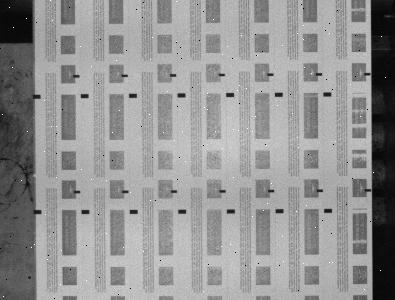backgroundclutter: (28, 276, 31, 279)
qblock: (324, 208, 333, 213), (130, 209, 138, 214), (33, 94, 41, 99), (129, 93, 137, 98), (323, 92, 332, 96), (34, 210, 42, 214), (178, 209, 186, 213), (81, 210, 89, 214), (276, 209, 284, 213), (227, 209, 235, 213), (81, 94, 89, 98), (275, 92, 283, 96), (226, 93, 234, 97), (178, 93, 186, 97)
smallqblock: (73, 74, 80, 78), (268, 189, 275, 192), (122, 190, 129, 193), (170, 74, 177, 77), (267, 73, 274, 76), (364, 73, 371, 76), (218, 73, 225, 76), (121, 74, 128, 77), (317, 189, 323, 192), (365, 189, 371, 192), (220, 190, 226, 193), (74, 190, 80, 193), (171, 190, 177, 193), (316, 73, 322, 76)
